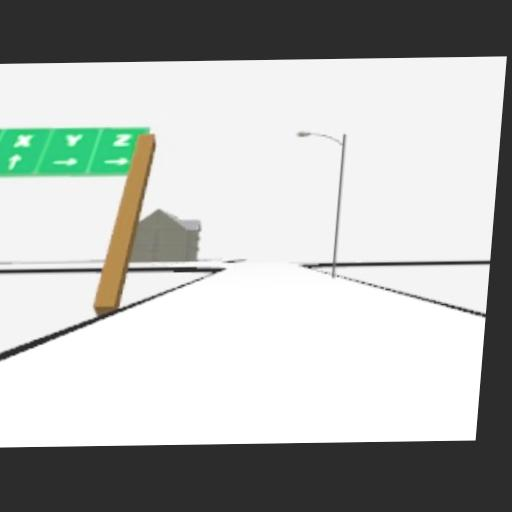Right: (50, 156, 79, 168), (103, 157, 129, 167)
Straight: (5, 151, 23, 170)
X: (13, 134, 32, 147)
Y: (64, 134, 83, 146)
Z: (111, 133, 132, 147)
